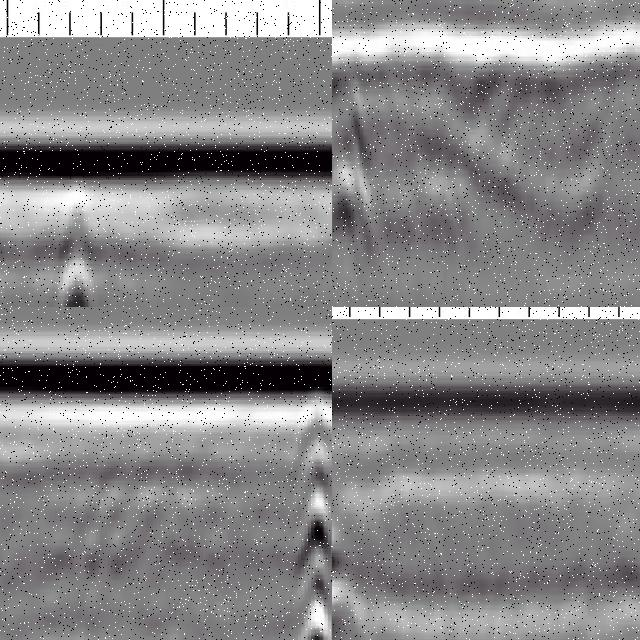crack: (290, 386, 333, 640), (59, 179, 98, 308)
loose: (333, 21, 564, 252), (333, 524, 437, 640)
